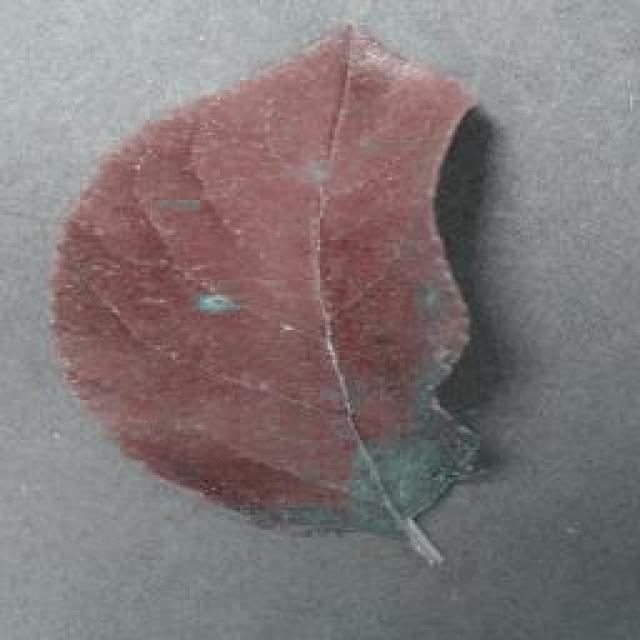apple healthy: (45, 17, 495, 545)
